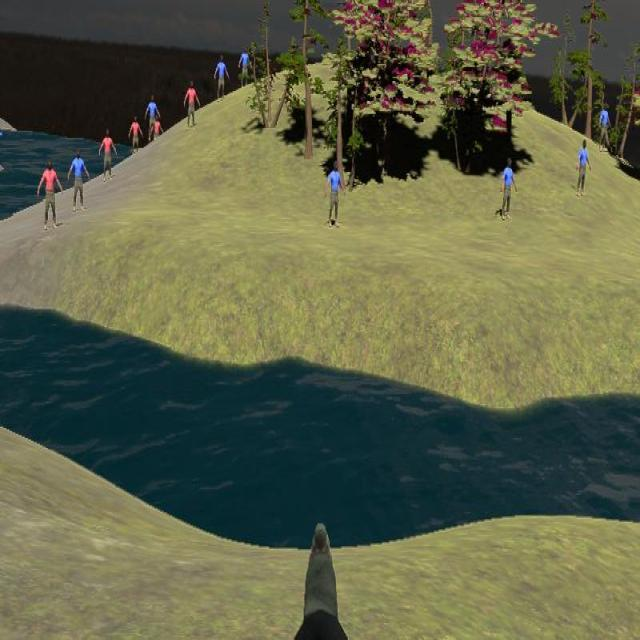Human: (38, 159, 63, 230), (68, 149, 90, 213), (325, 161, 345, 227), (98, 128, 117, 182), (501, 158, 517, 219), (576, 139, 591, 197), (145, 94, 162, 144), (214, 55, 229, 103), (598, 102, 612, 153), (129, 114, 143, 158)
